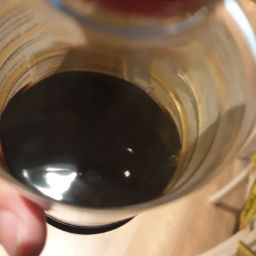Soy Sauce: (8, 61, 202, 212), (43, 96, 156, 177)
